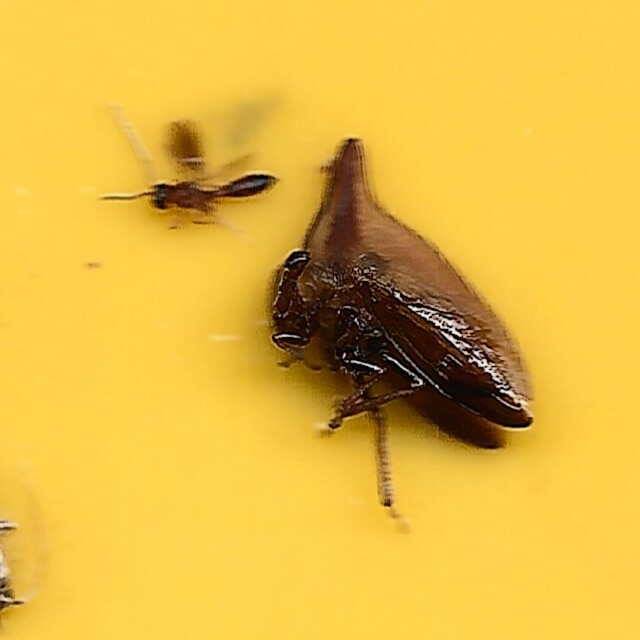Hemiptera: (266, 134, 540, 540)
Hymenoptera: (100, 100, 282, 230)
